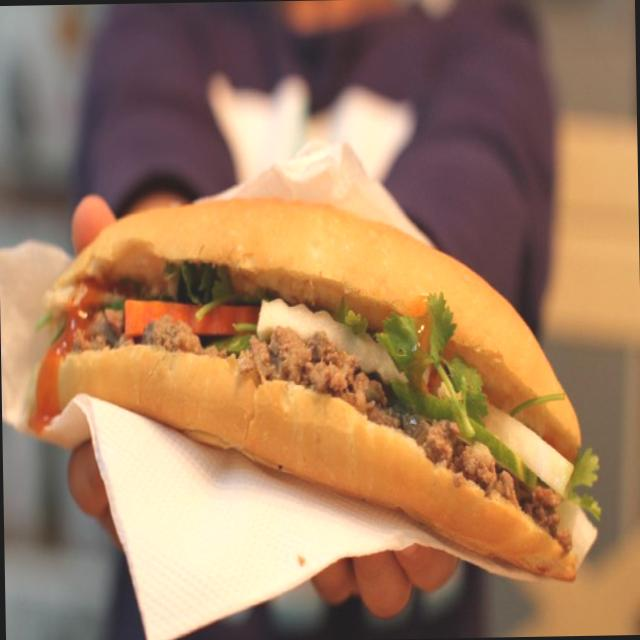banh mi: (27, 198, 598, 579)
